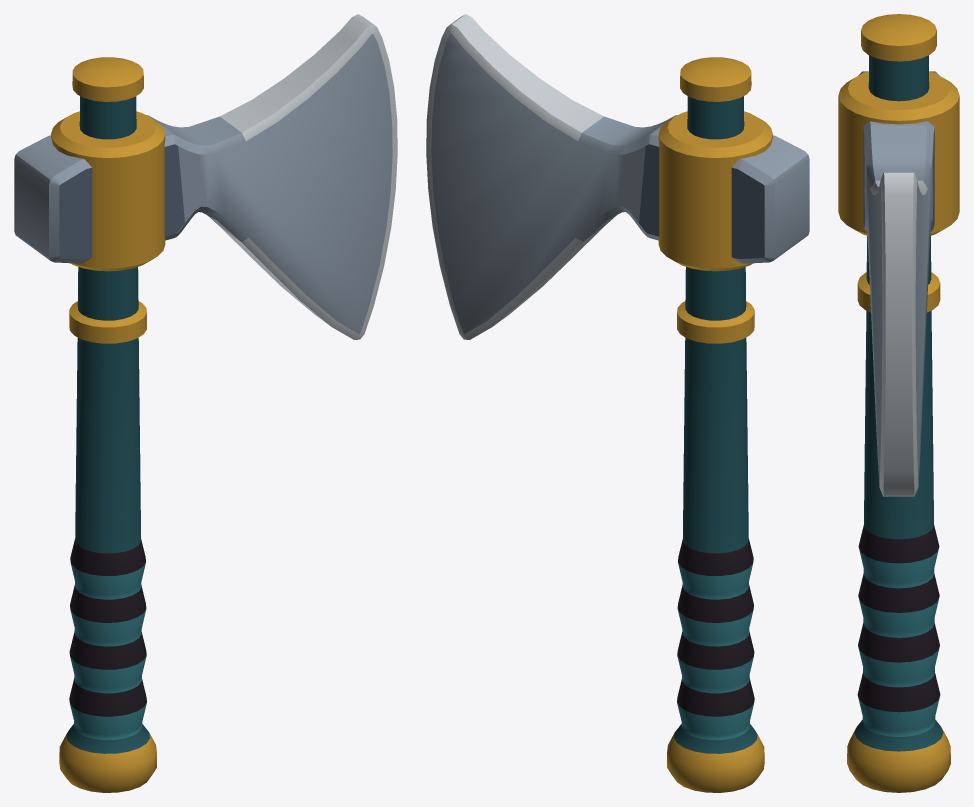
The model's file is Axe_11.glb.
The picture shows the model from 3 angles, left to right: view 1: azimuth 30°, elevation 25°; view 2: azimuth 150°, elevation 25°; view 3: azimuth 270°, elevation 25°; orthographic projection. The views are drawn at different scales.
Visible parts, largest first — view 1: Axe_11; view 2: Axe_11; view 3: Axe_11.
Part boxes in pixels (x1,y1,x2,y2): Axe_11: (14, 14, 397, 792); Axe_11: (426, 14, 809, 792); Axe_11: (838, 14, 959, 792).
Size of the model in its own units: 2.32 by 4.36 by 0.638.
